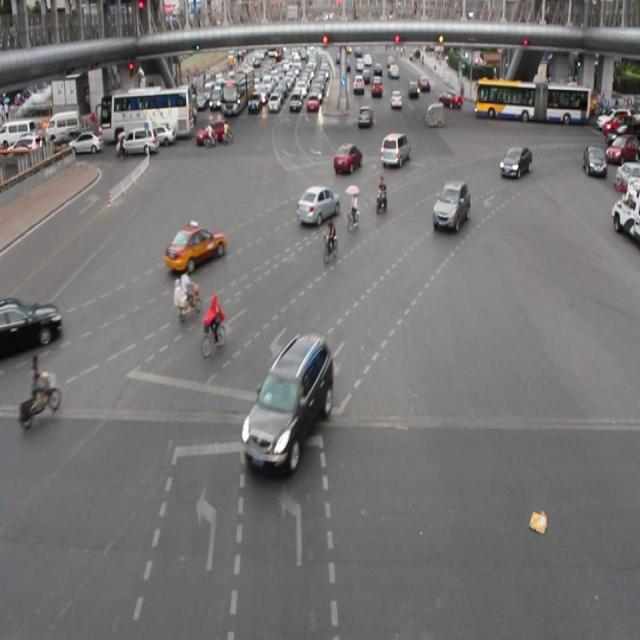car: (242, 334, 334, 477), (1, 293, 63, 359), (164, 218, 227, 274), (430, 176, 471, 235), (296, 184, 341, 228), (498, 144, 532, 180), (332, 142, 361, 174)
truck: (379, 131, 410, 169)
